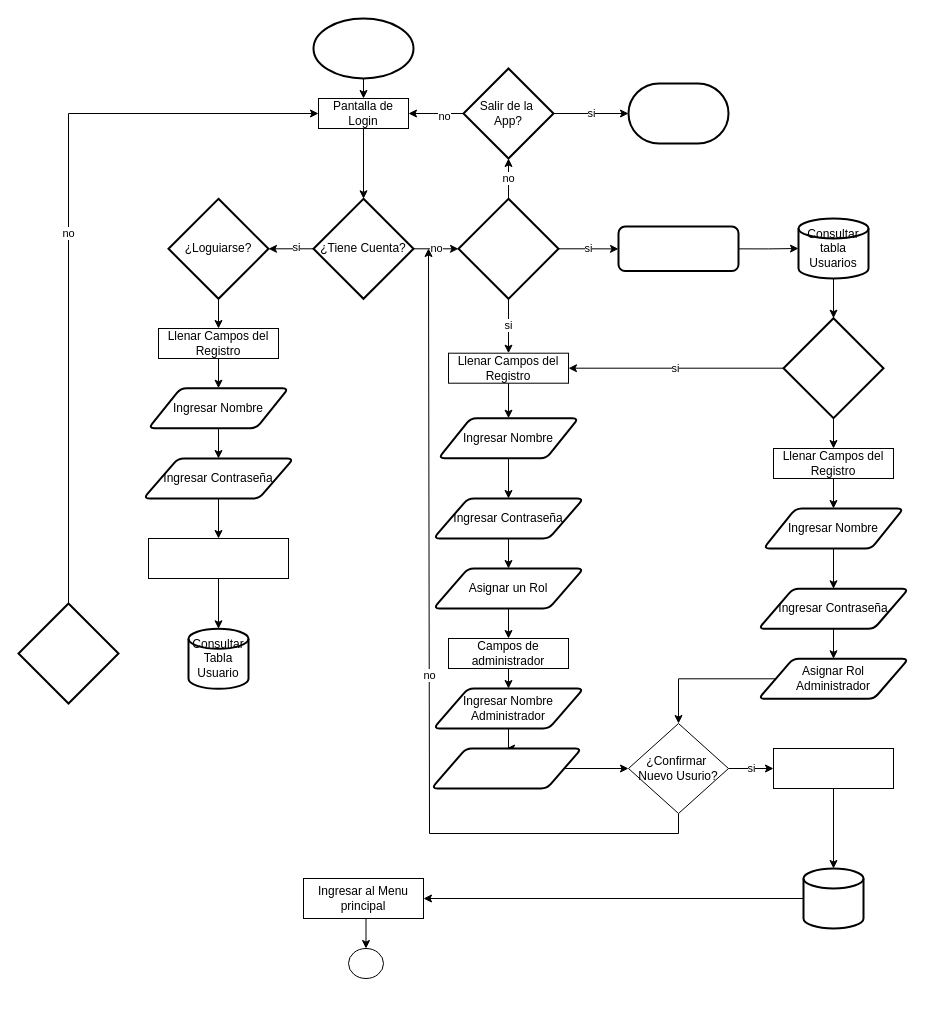
This 926x1016 diagram has some shape labels left out. The shapes that lost their labels are listed below. From the top down, each one's centre as x and y in pixels, then its label:
At [363,48]: "Ingresar a la Aplicación".
At [678,113]: "Salir".
At [508,248]: "¿Quiere registrase?".
At [678,248]: "Consultar si hay algún usuario administrador".
At [833,368]: "Hay usuario Administrador?".
At [218,558]: "Consultar un usuario con la contraseña ingresada".
At [68,653]: "¿Existe el Usuario?".
At [506,768]: "Ingresar Contraseña Administrador".
At [833,768]: "Registrar Nuevo Usuario".
At [833,898]: "Guardar Datos".
At [366,963]: "Menu principal".
